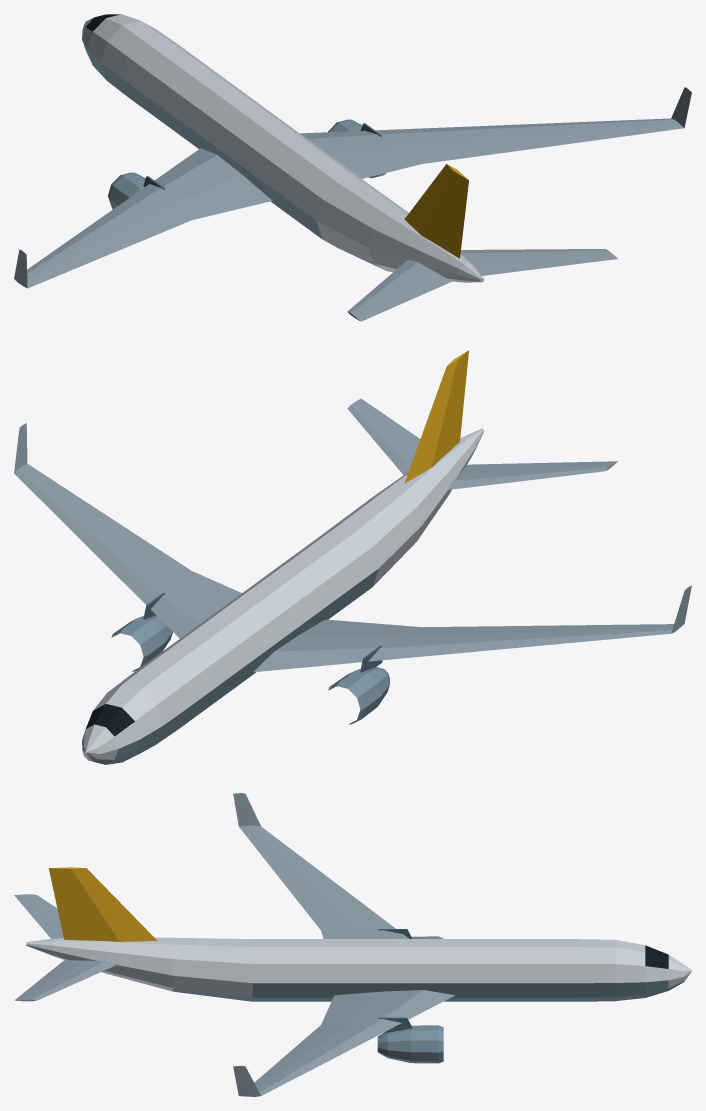
The picture shows the model from 3 angles, top to bottom: view 1: azimuth 30°, elevation 25°; view 2: azimuth 150°, elevation 25°; view 3: azimuth 270°, elevation 25°; orthographic projection. The views are drawn at different scales.
Visible parts, largest first — view 1: lod0; view 2: lod0; view 3: lod0.
Part boxes in pixels (x1,y1,x2,y2): lod0: (14, 14, 691, 321); lod0: (14, 350, 691, 764); lod0: (14, 793, 691, 1096).
Size of what is drawn, in the model's own units: 0.9518 by 0.2415 by 1.
